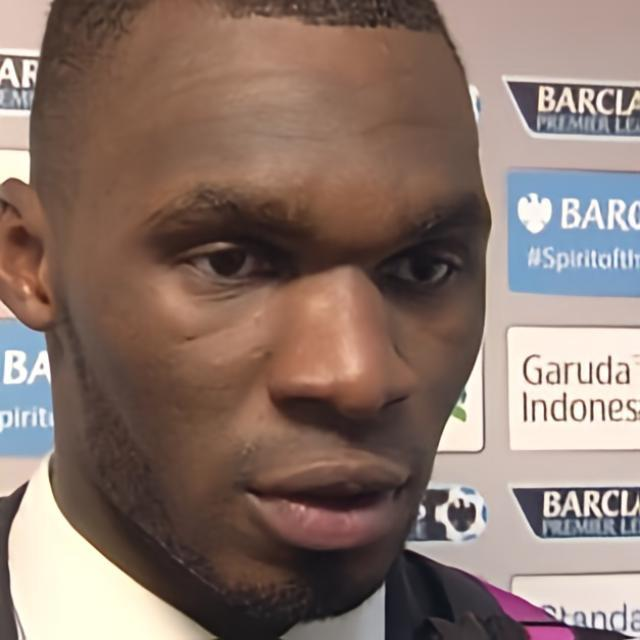anger: (79, 25, 488, 620)
